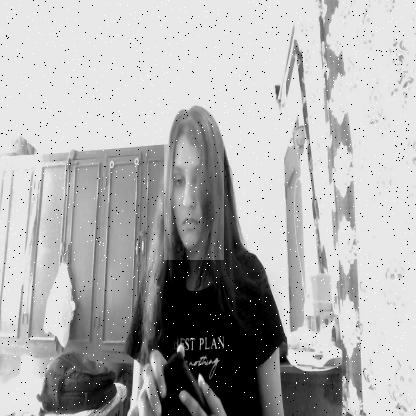Distracted: (164, 104, 224, 260)
